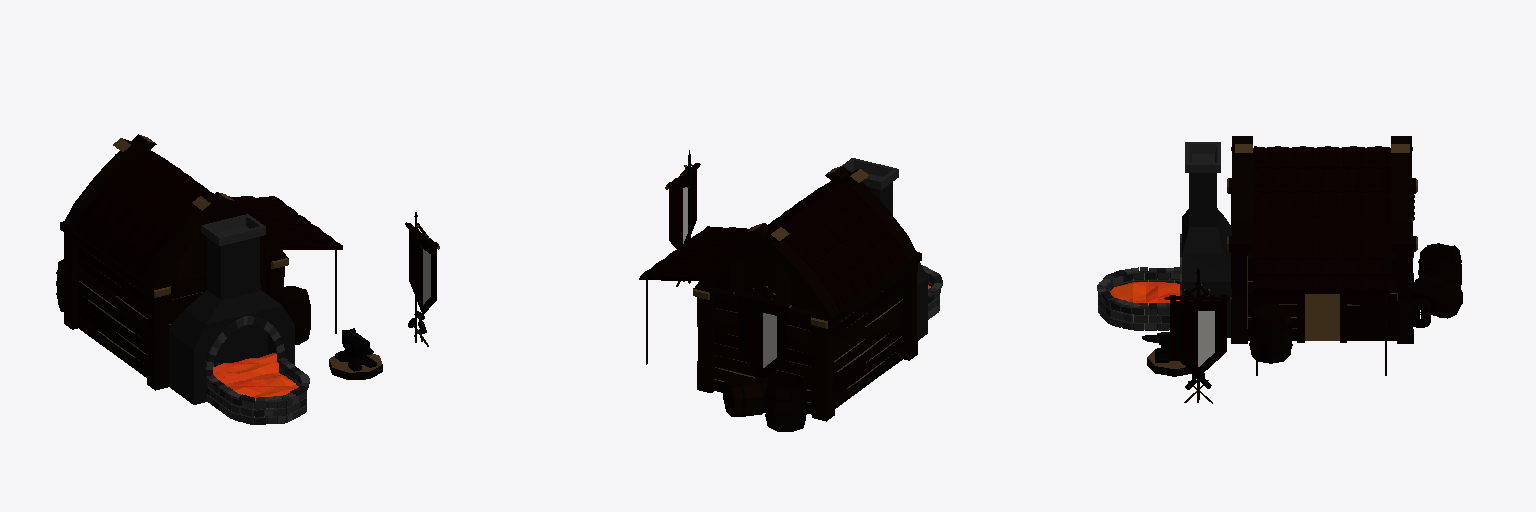
File: Blacksmith.obj
3 renders of one model, left to right at view 1: azimuth 30°, elevation 25°; view 2: azimuth 150°, elevation 25°; view 3: azimuth 270°, elevation 25°, orthographic.
Visible parts, largest first — view 1: BasicRoof1_Cube.026, basicBuilding1_Cube.019, Cube.001_Cube.033, awning_Plane.004, Circle.005_Circle.014, Circle.001_Circle.010, StandingFlag_Plane.001, Anvil_Circle, barrelClosed_Circle.006, Circle.004_Circle.013, Circle.003_Circle.012; view 2: BasicRoof1_Cube.026, basicBuilding1_Cube.019, HangingFlag_Plane.002, awning_Plane.004, barrel_Circle.004, Cube.001_Cube.033, StandingFlag_Plane.001, barrelClosed.002_Circle.003; view 3: BasicRoof1_Cube.026, basicBuilding1_Cube.019, awning_Plane.004, Cube.001_Cube.033, StandingFlag_Plane.001, Circle.001_Circle.010, barrelClosed_Circle.006, barrelClosed.002_Circle.003, barrel_Circle.004, Circle.005_Circle.014, Anvil_Circle, Circle.003_Circle.012.
Part boxes in pixels (bbox=[...]): BasicRoof1_Cube.026: bbox=[63, 134, 285, 287]; basicBuilding1_Cube.019: bbox=[60, 221, 288, 390]; Cube.001_Cube.033: bbox=[169, 214, 294, 404]; awning_Plane.004: bbox=[229, 196, 342, 333]; Circle.005_Circle.014: bbox=[213, 353, 298, 400]; Circle.001_Circle.010: bbox=[207, 363, 306, 424]; StandingFlag_Plane.001: bbox=[405, 212, 439, 342]; Anvil_Circle: bbox=[329, 330, 382, 379]; barrelClosed_Circle.006: bbox=[284, 286, 310, 344]; Circle.004_Circle.013: bbox=[205, 316, 284, 376]; Circle.003_Circle.012: bbox=[205, 358, 309, 402]; BasicRoof1_Cube.026: bbox=[695, 166, 917, 318]; basicBuilding1_Cube.019: bbox=[693, 252, 921, 421]; HangingFlag_Plane.002: bbox=[733, 283, 791, 377]; awning_Plane.004: bbox=[639, 226, 752, 364]; barrel_Circle.004: bbox=[765, 374, 806, 431]; Cube.001_Cube.033: bbox=[842, 158, 927, 340]; StandingFlag_Plane.001: bbox=[665, 150, 700, 283]; barrelClosed.002_Circle.003: bbox=[723, 377, 767, 416]; BasicRoof1_Cube.026: bbox=[1231, 136, 1412, 243]; basicBuilding1_Cube.019: bbox=[1227, 178, 1417, 343]; awning_Plane.004: bbox=[1253, 243, 1389, 375]; Cube.001_Cube.033: bbox=[1182, 142, 1231, 337]; StandingFlag_Plane.001: bbox=[1164, 268, 1231, 399]; Circle.001_Circle.010: bbox=[1098, 271, 1179, 330]; barrelClosed_Circle.006: bbox=[1249, 304, 1292, 363]; barrelClosed.002_Circle.003: bbox=[1413, 275, 1462, 318]; barrel_Circle.004: bbox=[1418, 243, 1461, 288]; Circle.005_Circle.014: bbox=[1110, 281, 1179, 305]; Anvil_Circle: bbox=[1142, 332, 1191, 376]; Circle.003_Circle.012: bbox=[1097, 267, 1179, 308].
Size of the model in its own units: 7.16 by 4.61 by 8.8.